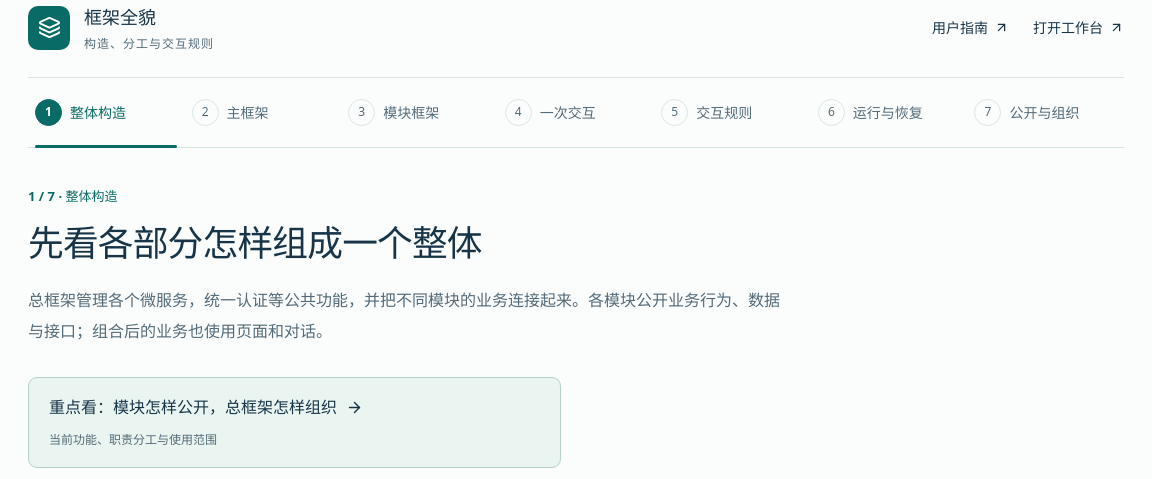
it: framework structure explanation › shows repeat without inventing a successful write
Click the button "4 一次交互": (576, 112) 498,78 -> 654,147
(page scrolled)
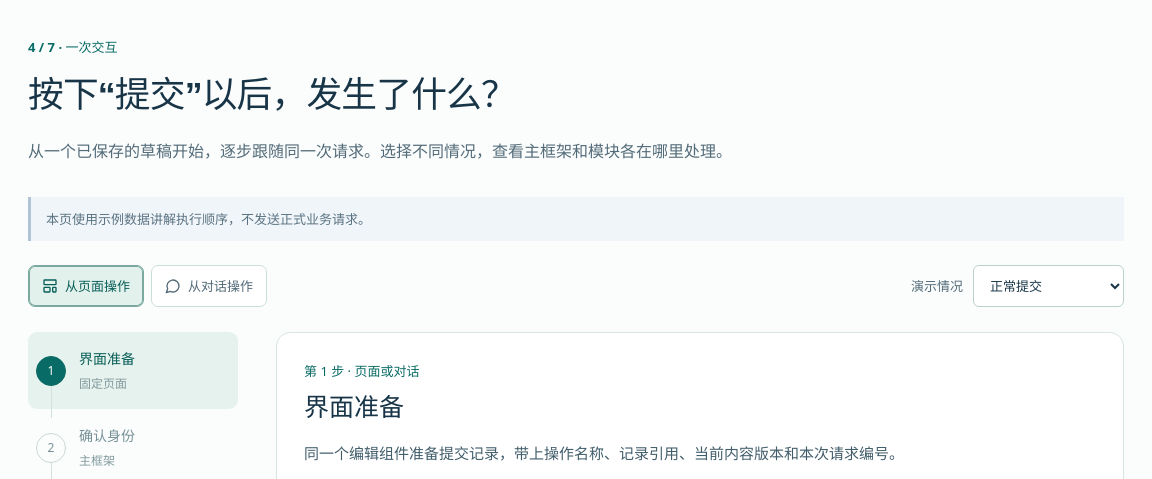
Select "相同请求再次发送" in the dropdown labelled "演示情况": (1048, 286) 973,265 -> 1124,307
(page scrolled)
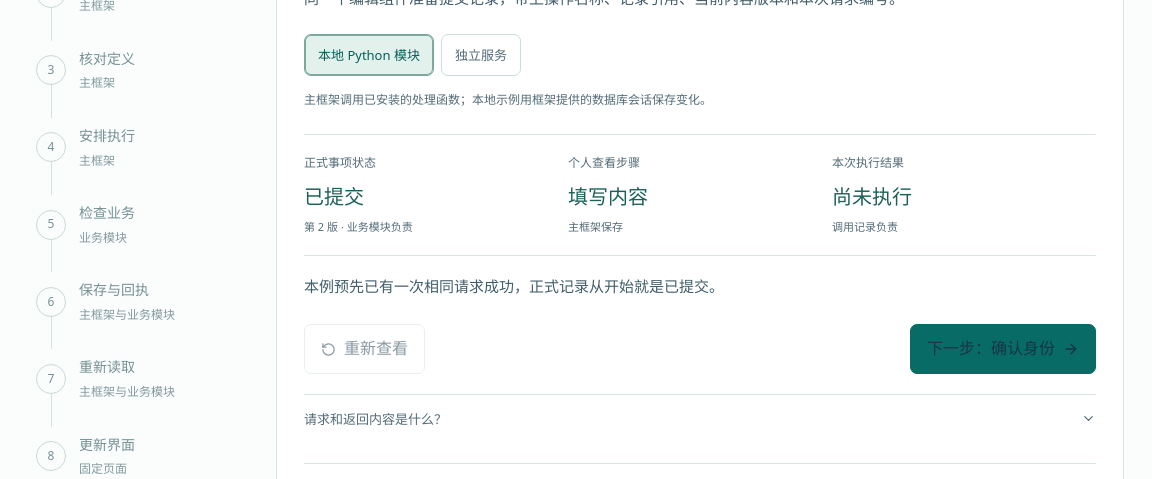
Click the button "下一步：确认身份": (1003, 349) 910,324 -> 1096,374
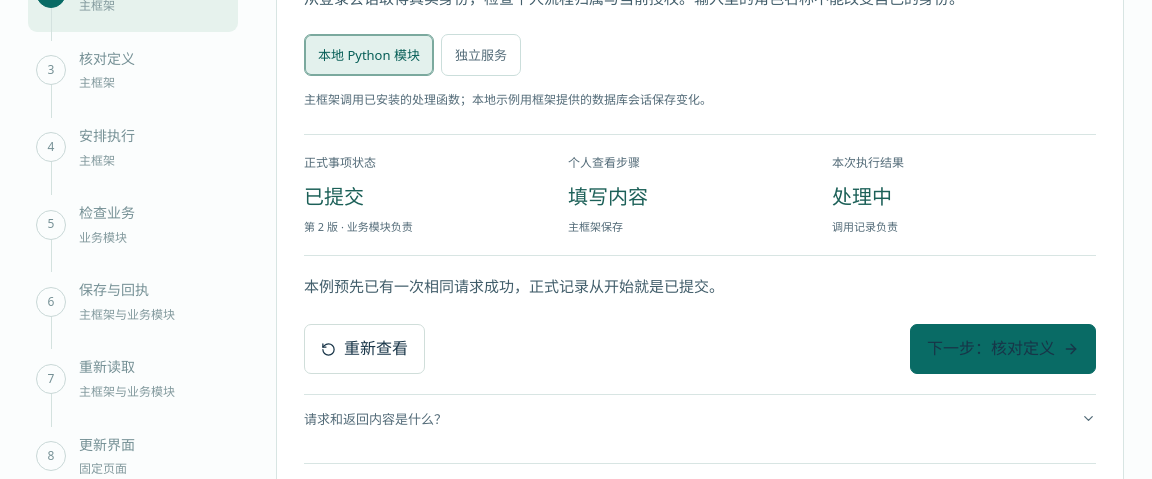
Click the button "下一步：核对定义": (1003, 349) 910,324 -> 1096,374
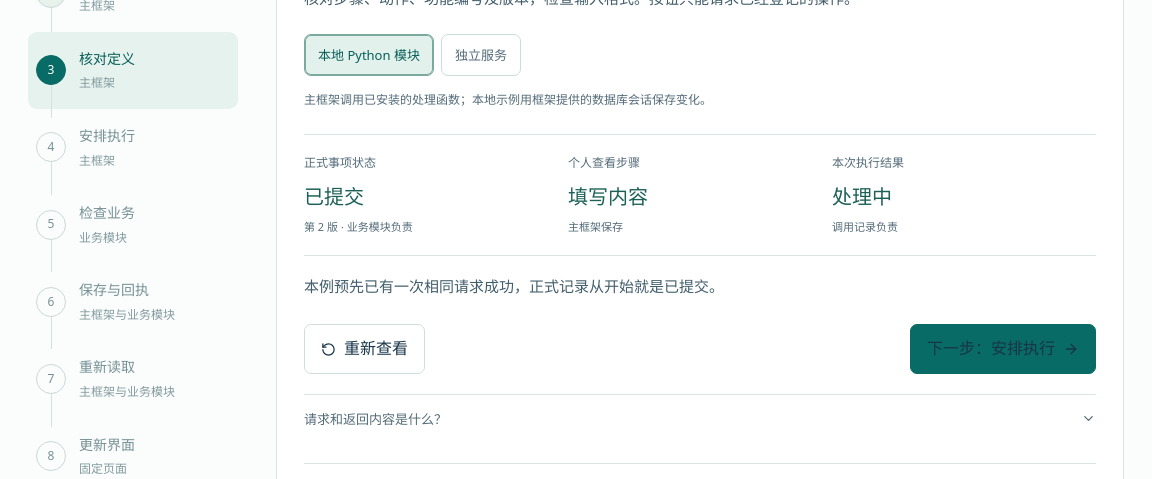
Click the button "下一步：安排执行": (1003, 349) 910,324 -> 1096,374
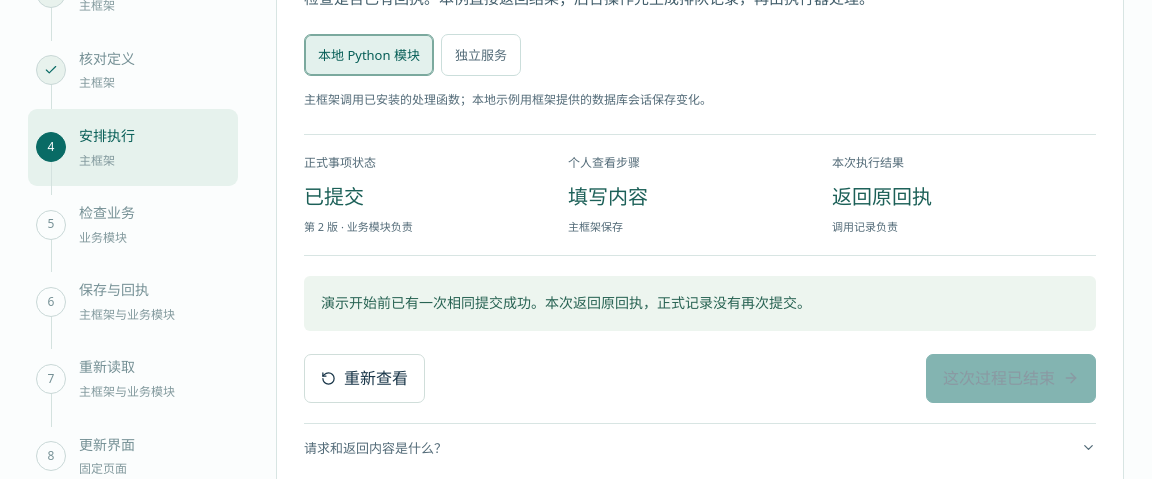
Expected: the text "已提交" is shown, 304,184 -> 364,210
Expected: the text "返回原回执" is shown, 832,184 -> 932,210
Expected: the button "这次过程已结束" is disabled, 926,354 -> 1096,403
